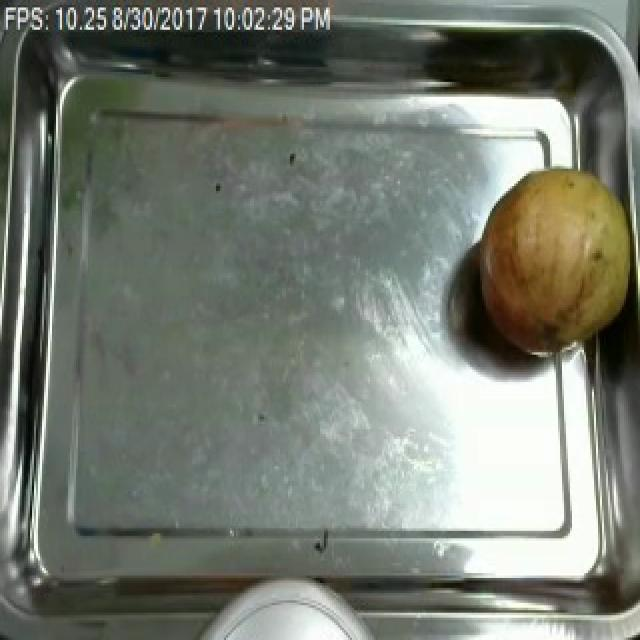fruit: (470, 151, 640, 370)
